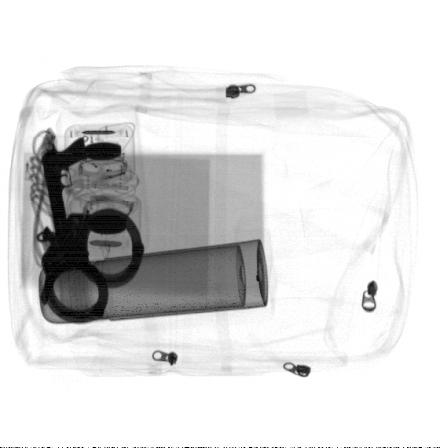Gun: (41, 134, 89, 252)
HandCuffs: (35, 206, 146, 323)
